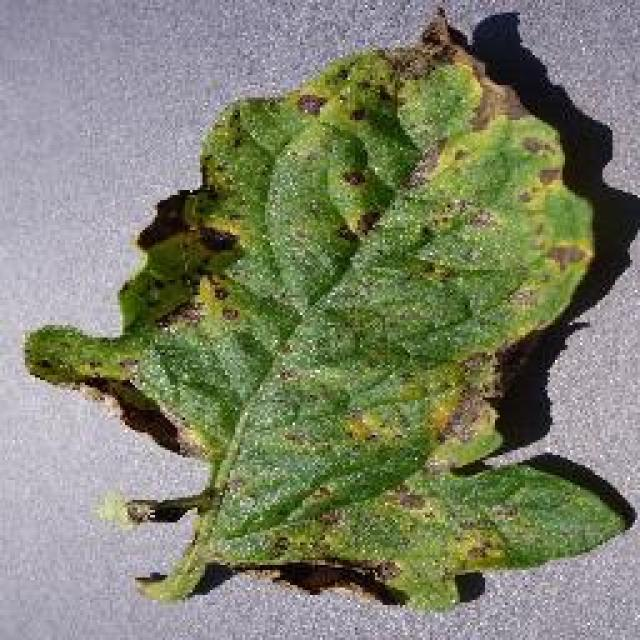Tomato Septoria spot leaf: (26, 11, 632, 614)
